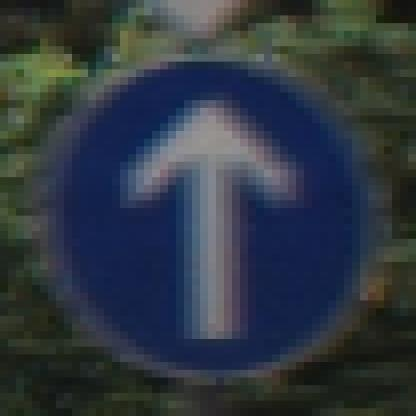AheadOnly: (41, 47, 377, 379)
